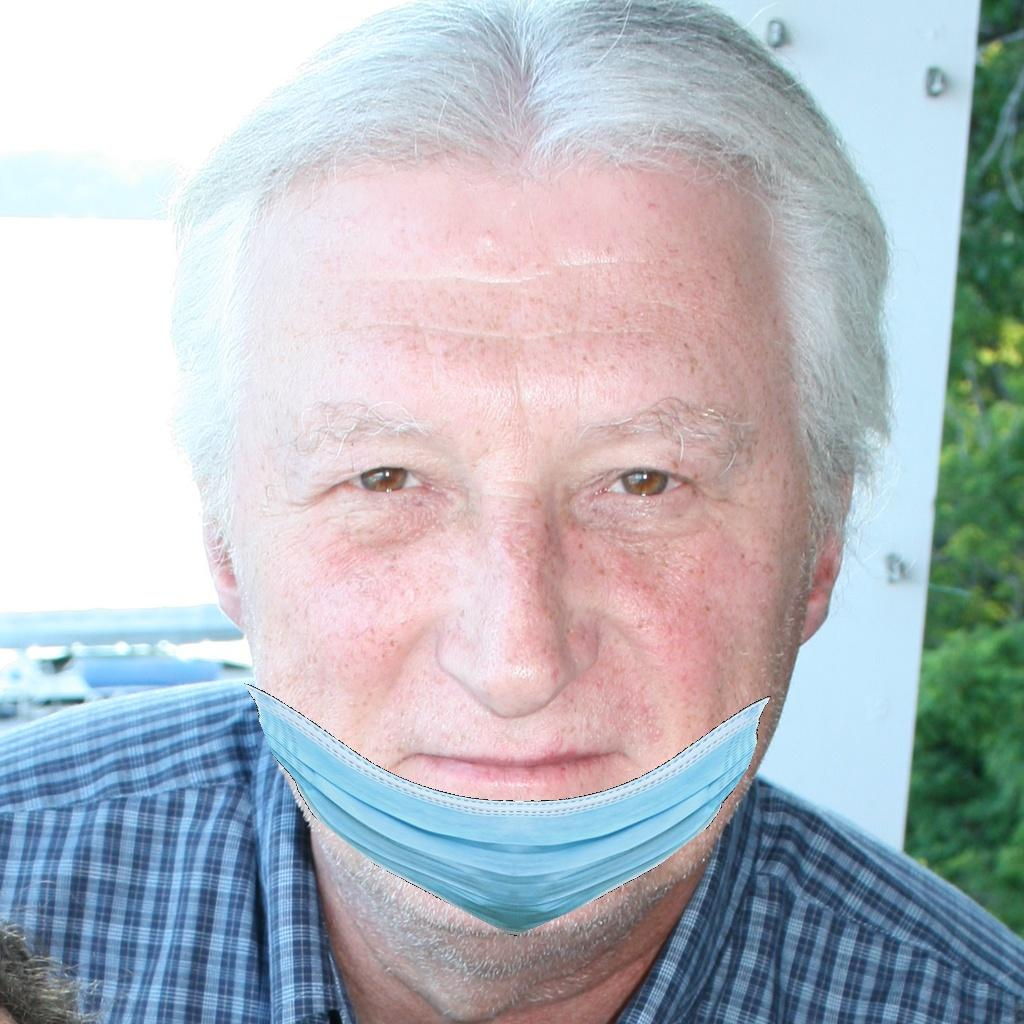Máscara Incorreta: (204, 219, 803, 921)
